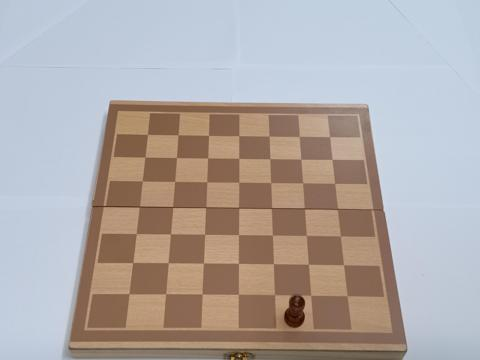xcorner: (142, 130, 152, 140), (134, 203, 144, 213), (124, 290, 134, 300), (296, 155, 306, 165), (140, 153, 149, 163), (131, 230, 140, 240), (128, 259, 137, 269), (171, 154, 181, 163), (169, 178, 179, 187), (167, 204, 177, 213), (165, 231, 175, 240), (161, 290, 170, 300), (204, 131, 213, 141), (202, 178, 211, 188), (198, 260, 208, 269), (197, 291, 207, 300), (234, 154, 243, 164), (234, 204, 243, 214), (234, 231, 243, 241), (234, 260, 243, 270), (233, 291, 243, 300), (264, 132, 274, 141), (265, 155, 275, 164), (270, 291, 279, 301), (295, 132, 304, 142), (298, 179, 307, 189), (302, 232, 311, 242), (327, 156, 337, 165), (333, 205, 342, 215), (339, 261, 348, 271), (137, 178, 146, 187), (173, 131, 182, 140), (163, 260, 172, 269), (203, 154, 212, 163), (201, 204, 210, 213), (200, 231, 209, 240), (234, 132, 243, 141), (234, 179, 243, 188), (266, 179, 275, 188), (267, 205, 276, 214), (268, 232, 277, 241), (269, 261, 278, 270), (300, 205, 309, 214), (304, 261, 313, 270), (306, 292, 315, 301), (325, 133, 334, 142), (330, 180, 339, 189), (336, 233, 345, 242), (342, 292, 351, 301)
